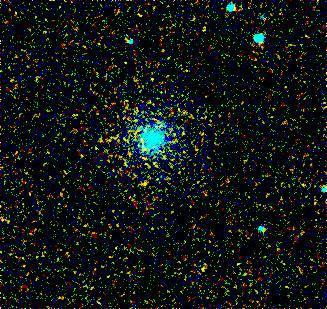star: (135, 167, 165, 197)
